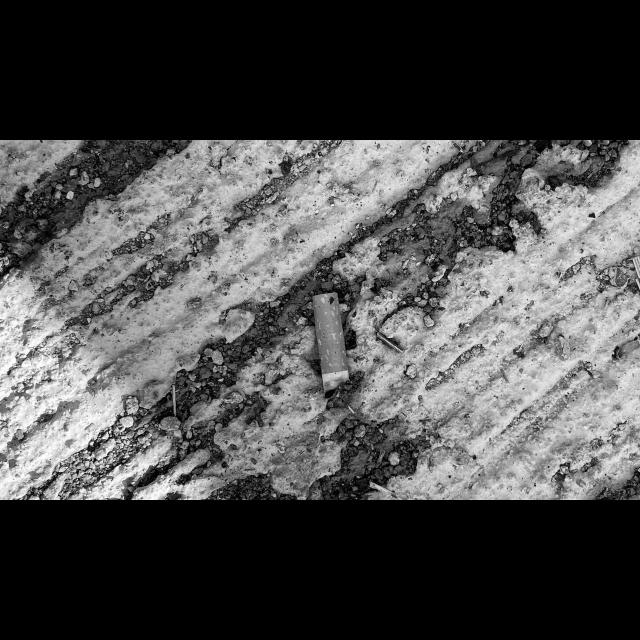cigarette: (310, 291, 359, 401)
